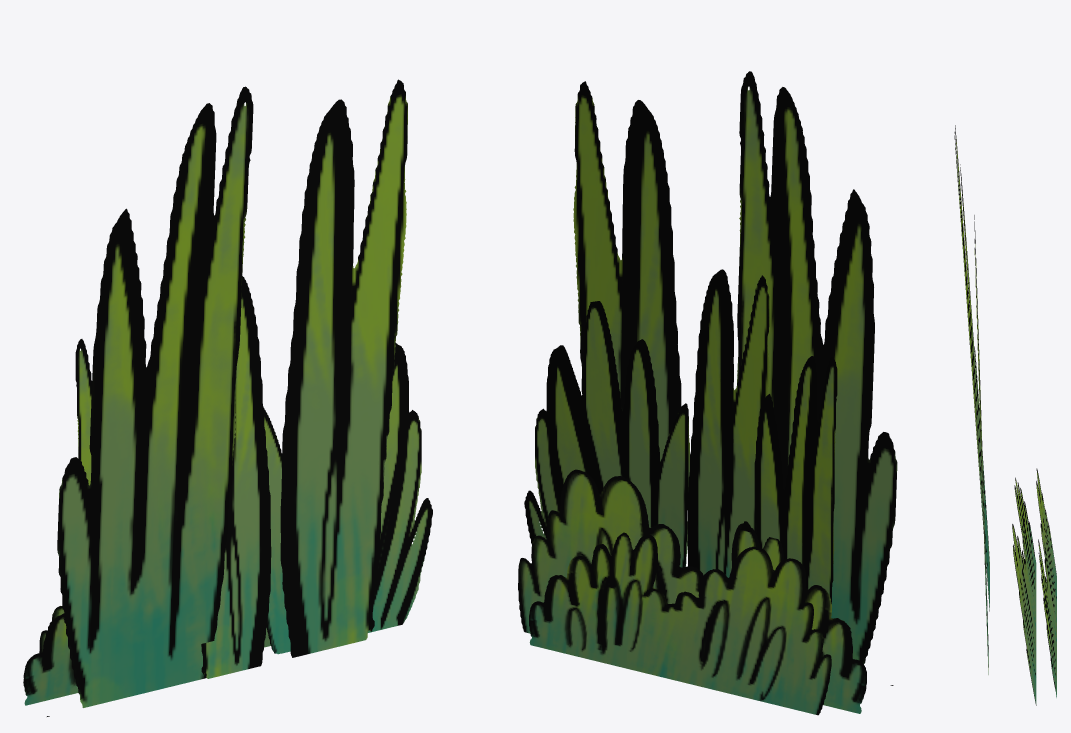
The model's file is FOREST_WALL_1_001.obj.
3 renders of one model, left to right at view 1: azimuth 30°, elevation 25°; view 2: azimuth 150°, elevation 25°; view 3: azimuth 270°, elevation 25°, orthographic. The views are drawn at different scales.
Parts seen in each view (by area): view 1: FOREST_WALL_1_001; view 2: FOREST_WALL_1_001; view 3: FOREST_WALL_1_001.
Boxes of the visible parts, <box> form: FOREST_WALL_1_001: <box>23,79,432,716</box>; FOREST_WALL_1_001: <box>518,71,897,715</box>; FOREST_WALL_1_001: <box>954,125,1056,705</box>.
Bounding box in the file's own units: 1.52 × 2.26 × 0.3979.
